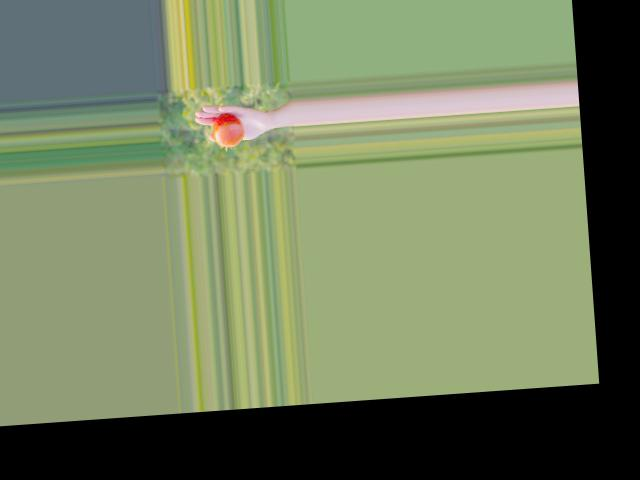tomato: (211, 111, 244, 147)
